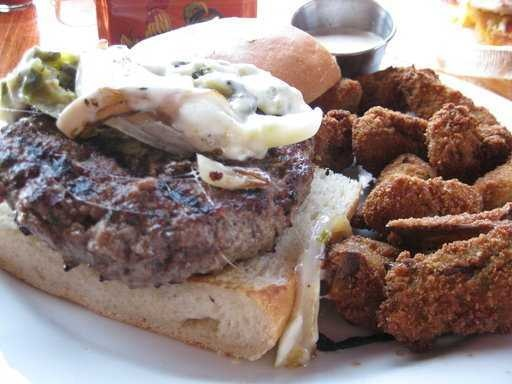hamburger: (1, 59, 376, 350)
